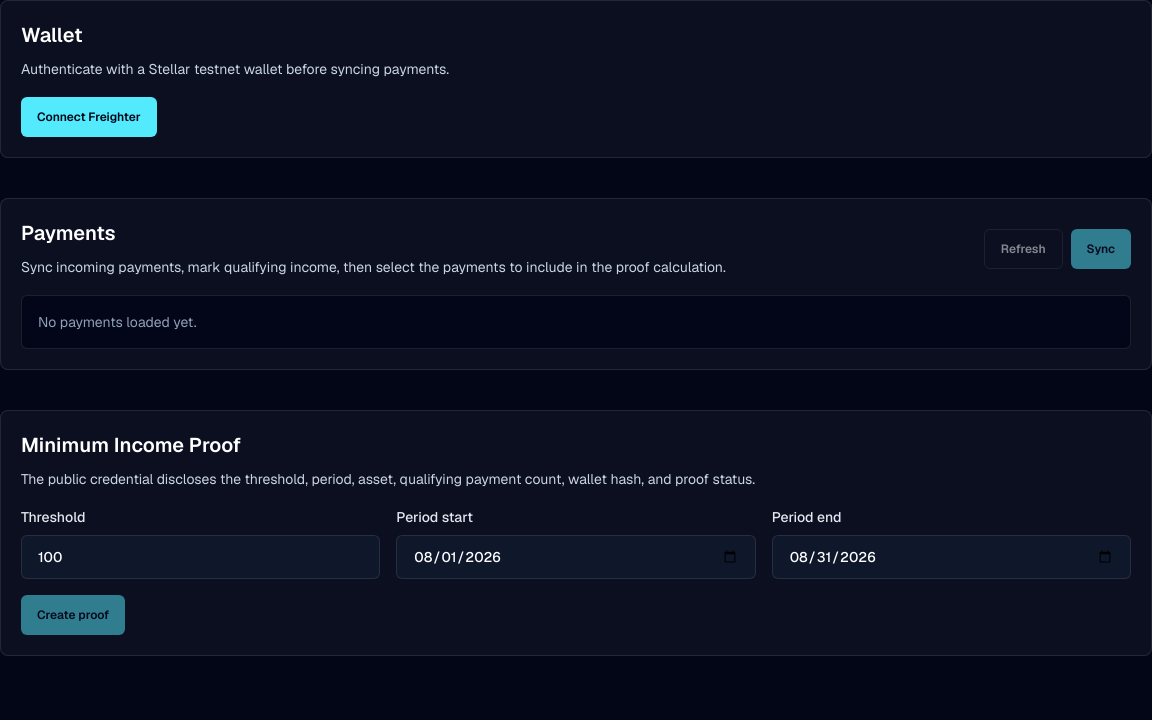
CreateProofFlow wallet authentication › requests Freighter access, signs the challenge, verifies it, and serializes the session
Click the button "Connect Freighter": (89, 117) [21, 97, 157, 137]
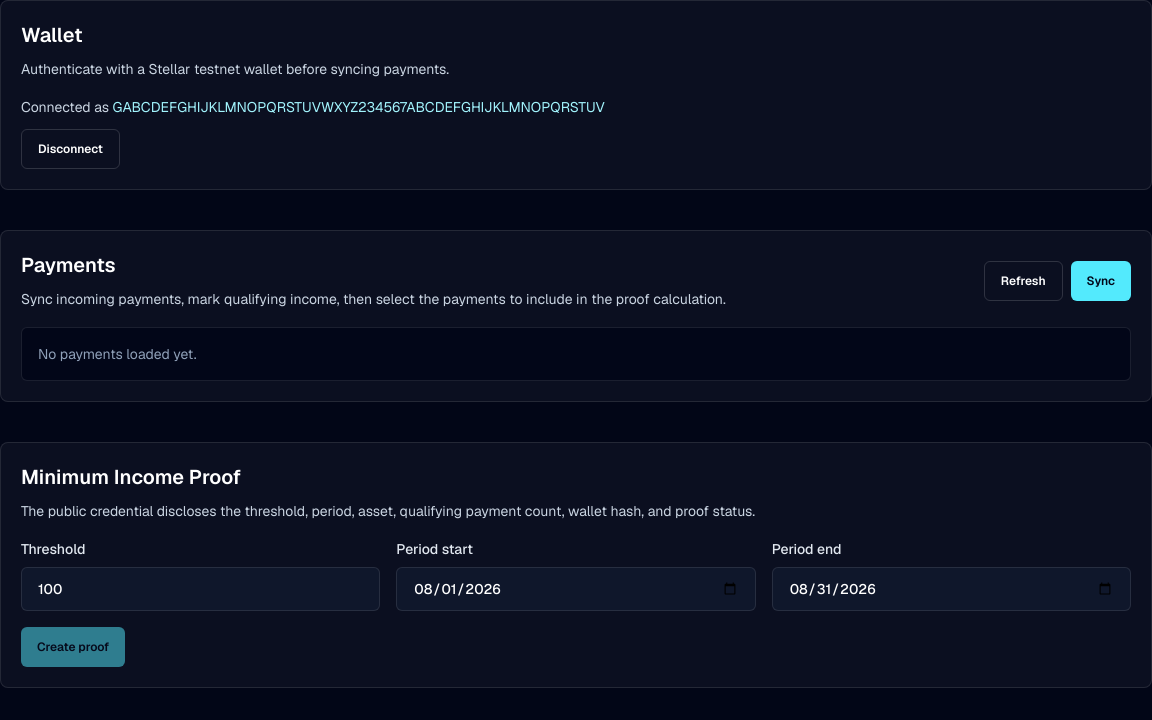
Check: the text "Connected as" is shown, box [21, 98, 113, 116]
